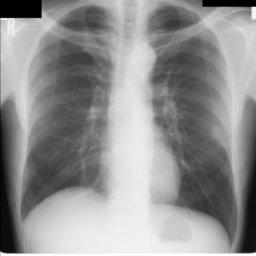left lobe: (148, 6, 237, 240)
right lobe: (24, 7, 114, 218)
trachea: (124, 0, 136, 38)
